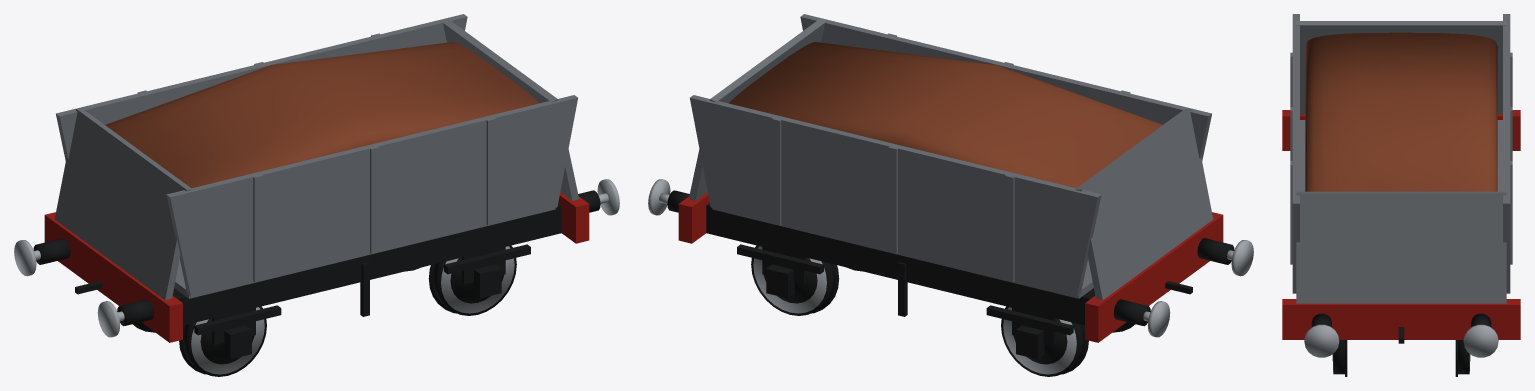
The model's file is iron_ore_hopper.glb.
The picture shows the model from 3 angles, left to right: view 1: azimuth 30°, elevation 25°; view 2: azimuth 150°, elevation 25°; view 3: azimuth 270°, elevation 25°; orthographic projection. The views are drawn at different scales.
Parts seen in each view (by area): view 1: lateral.001, minerio, cabeceira.001, longarina.001, lateral, viga.001, cabeceira, estrado, viga, roda_face-1, roda_face-1.001, reforco.005 (+17 smaller); view 2: lateral, minerio, cabeceira.001, longarina, lateral.001, viga.001, cabeceira, estrado, viga, roda_face1, roda_face1.001, reforco.002 (+17 smaller); view 3: minerio, cabeceira, viga, cabeceira.001, lateral.001, lateral, buffer_cabeca, buffer_cabeca.001, fundo, viga.001, roda_roda1, roda_roda-1 (+4 smaller).
Boxes of the visible parts, bbox=[...] form: lateral.001: bbox=[166, 95, 577, 296]; minerio: bbox=[105, 42, 539, 188]; cabeceira.001: bbox=[54, 108, 192, 300]; longarina.001: bbox=[173, 203, 561, 325]; lateral: bbox=[56, 14, 467, 161]; viga.001: bbox=[44, 212, 182, 342]; cabeceira: bbox=[441, 18, 579, 200]; estrado: bbox=[172, 205, 561, 304]; viga: bbox=[558, 192, 589, 243]; roda_face-1: bbox=[441, 246, 514, 313]; roda_face-1.001: bbox=[191, 307, 264, 374]; reforco.005: bbox=[485, 117, 496, 225]; lateral: bbox=[690, 95, 1101, 296]; minerio: bbox=[728, 42, 1162, 188]; cabeceira.001: bbox=[1075, 108, 1213, 300]; longarina: bbox=[706, 203, 1094, 325]; lateral.001: bbox=[800, 14, 1211, 161]; viga.001: bbox=[1085, 212, 1223, 342]; cabeceira: bbox=[688, 18, 826, 200]; estrado: bbox=[706, 205, 1095, 304]; viga: bbox=[678, 192, 709, 243]; roda_face1: bbox=[753, 246, 826, 313]; roda_face1.001: bbox=[1003, 307, 1076, 374]; reforco.002: bbox=[771, 117, 781, 225]; minerio: bbox=[1305, 32, 1497, 191]; cabeceira: bbox=[1296, 191, 1506, 303]; viga: bbox=[1282, 299, 1520, 339]; cabeceira.001: bbox=[1296, 21, 1506, 114]; lateral.001: bbox=[1292, 14, 1299, 293]; lateral: bbox=[1503, 14, 1510, 293]; buffer_cabeca: bbox=[1463, 324, 1498, 357]; buffer_cabeca.001: bbox=[1304, 324, 1339, 357]; fundo: bbox=[1300, 120, 1502, 191]; viga.001: bbox=[1282, 110, 1520, 150]; roda_roda1: bbox=[1458, 340, 1469, 374]; roda_roda-1: bbox=[1333, 340, 1344, 374].
Bounding box in the file's own units: 6.05 × 2.68 × 2.6.
